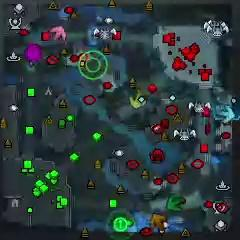p3: (26, 42, 43, 64)
x1: (50, 24, 67, 41)
x2: (129, 89, 146, 109)
x3: (217, 105, 235, 124)
x4: (166, 196, 185, 213)
x5: (150, 214, 166, 231)
